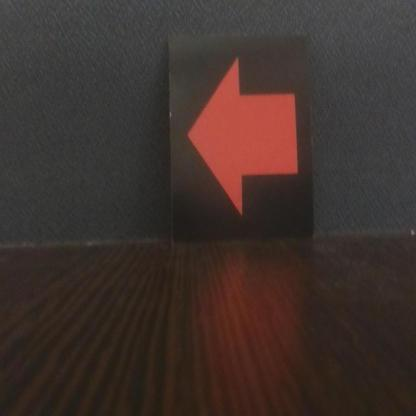left: (168, 35, 313, 239)
